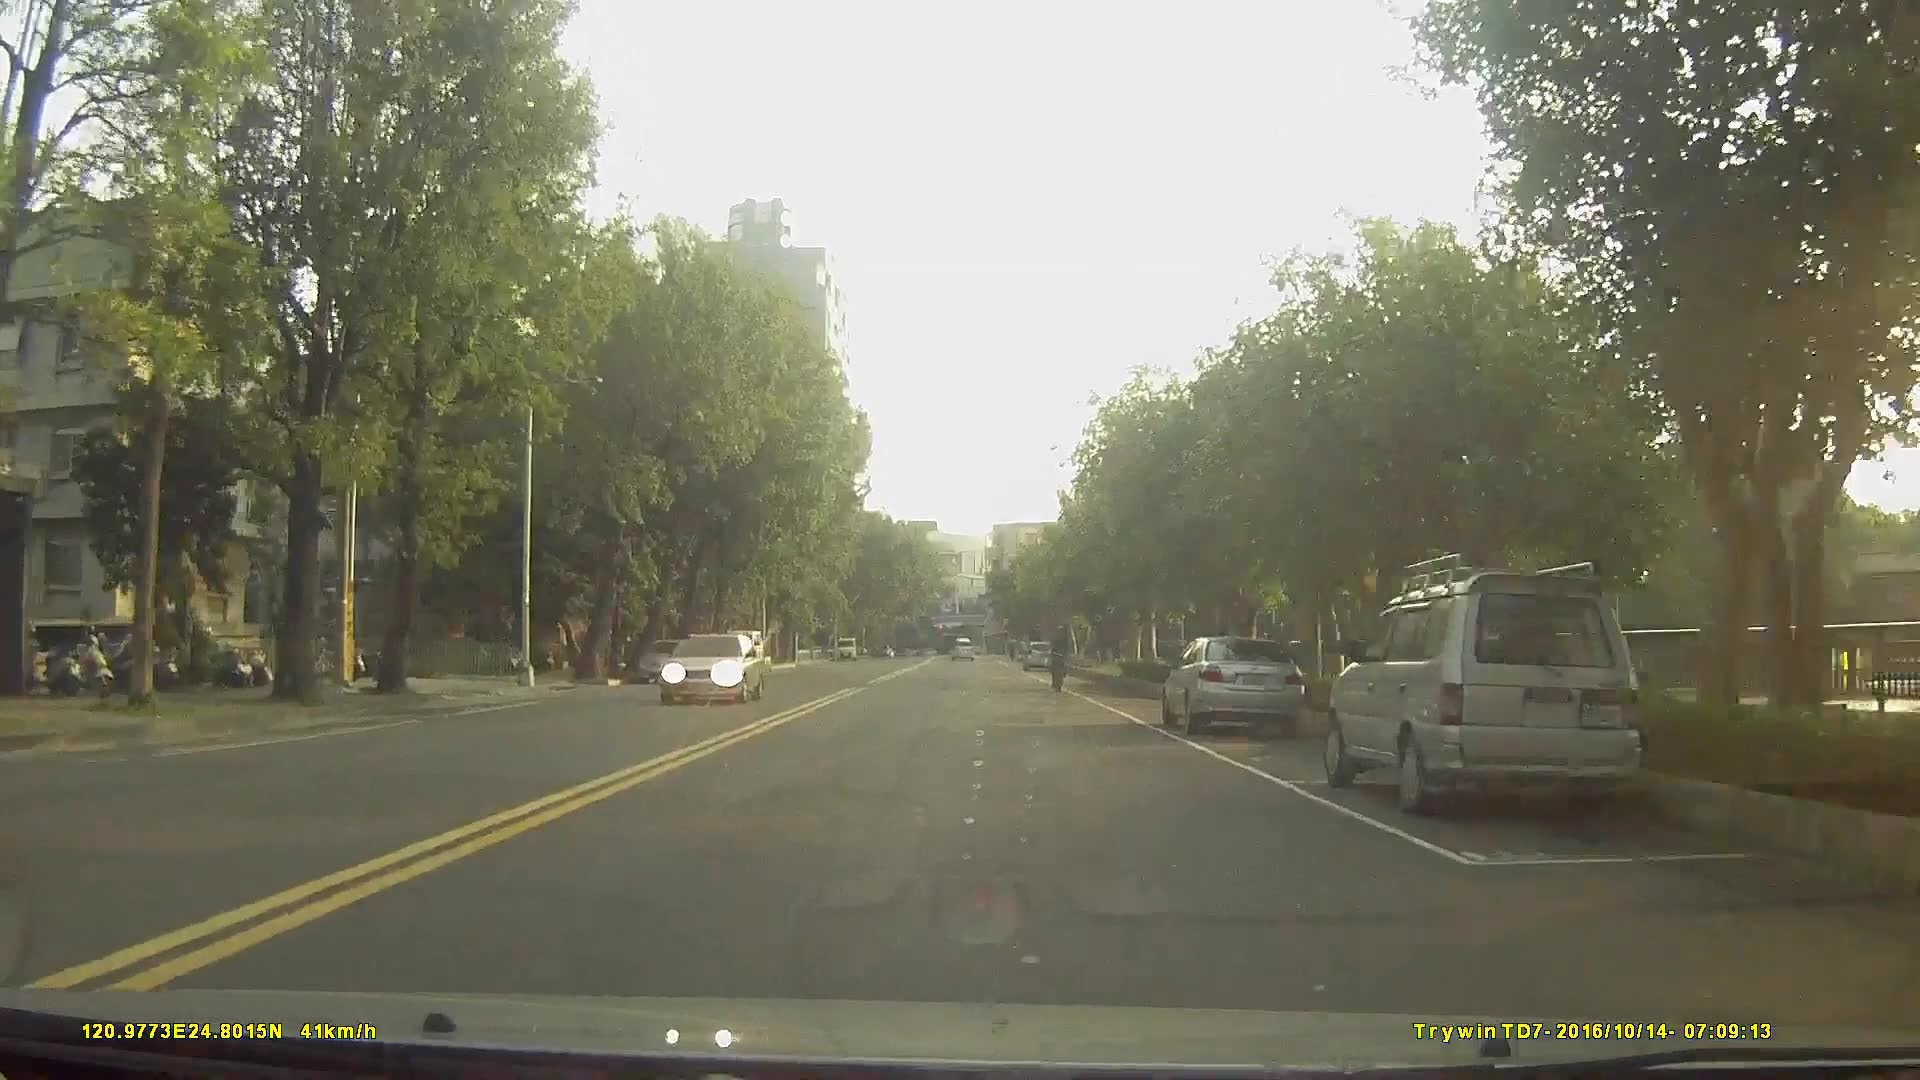rider: (1050, 622, 1073, 698)
vehicle: (1321, 567, 1646, 823), (1162, 632, 1305, 740), (655, 632, 767, 705), (633, 637, 699, 685), (715, 632, 764, 678), (1021, 638, 1056, 672), (947, 636, 975, 664)
